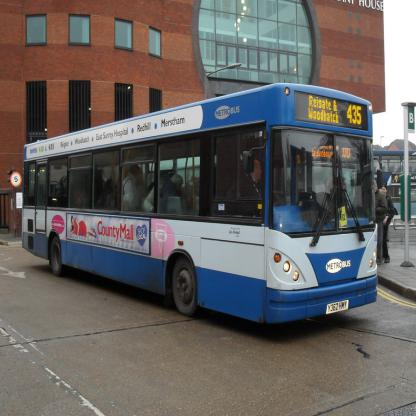Bus: (22, 82, 378, 324)
